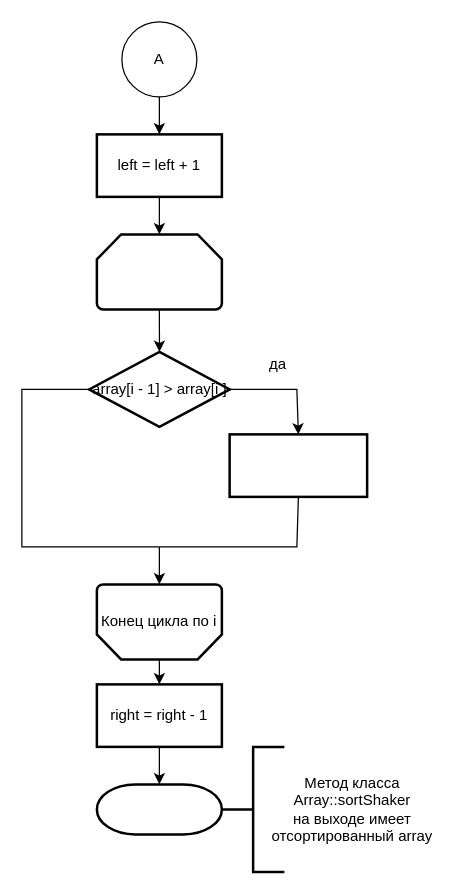
The diagram is 461 pixels wide and 895 high, and some of its shapes have lost their labels. The box of each missing label's shape, as (x1, y1, x2, y2) in pixels:
buffer = array[i] array[i] = array[i-1] array[i-1] = buffer: (228, 432, 368, 498)
i = right ... left: (95, 232, 222, 310)
Конец sortShaker: (95, 782, 222, 835)
